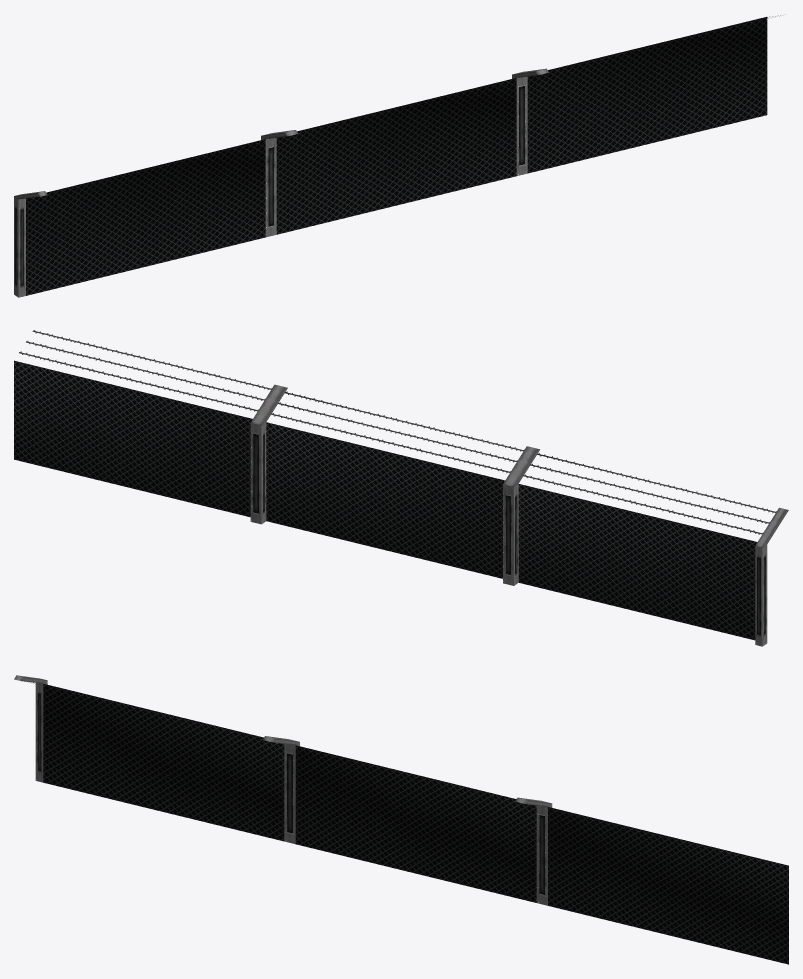
Rendered from Mission1_FenceA.glb.
3 renders of one model, top to bottom at view 1: azimuth 30°, elevation 25°; view 2: azimuth 150°, elevation 25°; view 3: azimuth 330°, elevation 25°, orthographic.
Parts seen in each view (by area): view 1: MISSION1_FENCEA; view 2: MISSION1_FENCEA; view 3: MISSION1_FENCEA.
Part boxes in pixels (x1=…): MISSION1_FENCEA: x1=14, y1=15, x2=780, y2=297; MISSION1_FENCEA: x1=14, y1=330, x2=788, y2=646; MISSION1_FENCEA: x1=14, y1=675, x2=788, y2=964.
Bounding box in the file's own units: 23.88 × 3.63 × 1.45.
4 materials, 4 textured.
